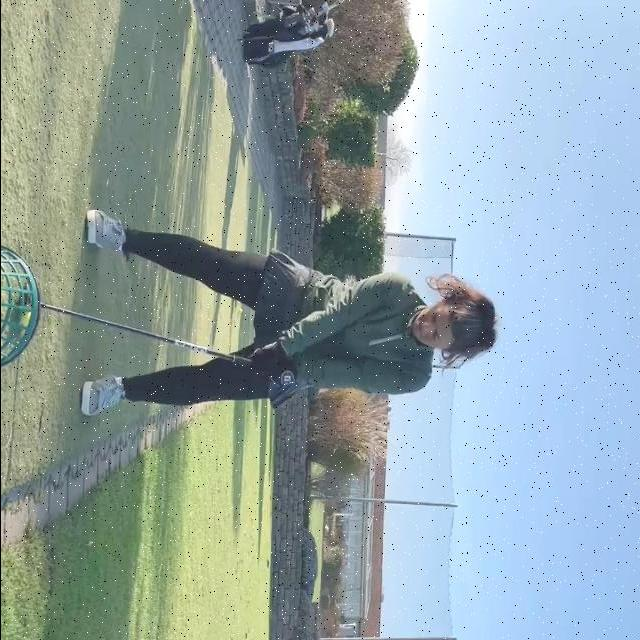ClubHandle: (24, 285, 248, 367)
ClubHead: (23, 285, 32, 305)
GolfBall: (20, 313, 29, 327)
